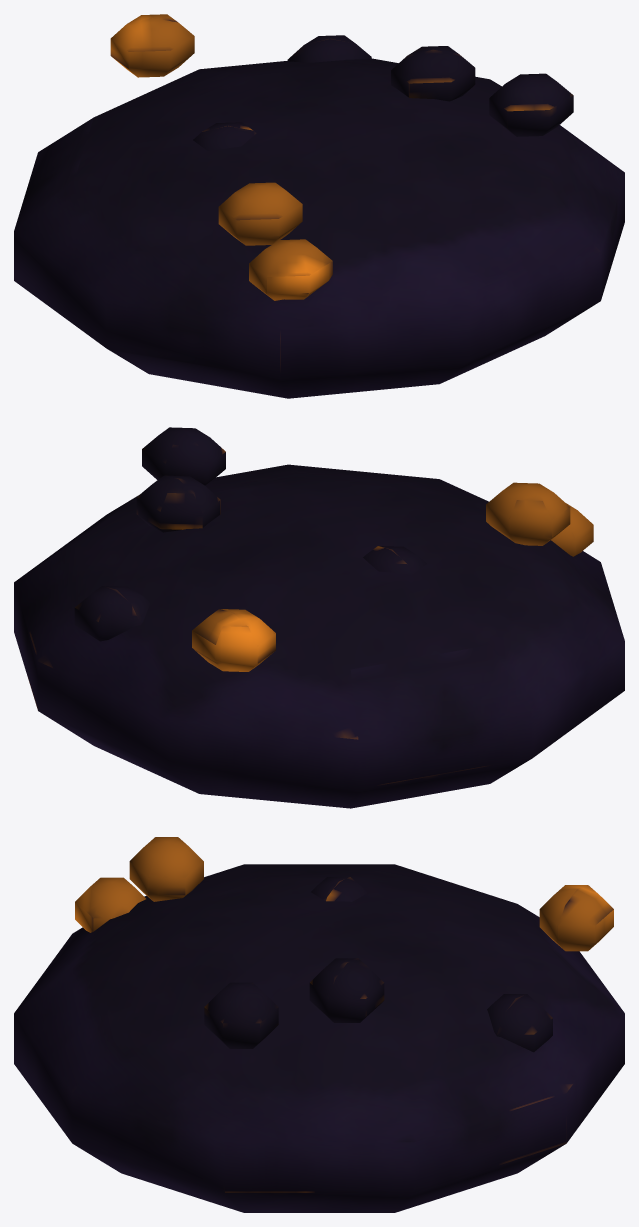
The model's file is cinder_pile.obj.
3 views of the same model, one above another, from view 1: azimuth 30°, elevation 25°; view 2: azimuth 150°, elevation 25°; view 3: azimuth 270°, elevation 25° (orthographic).
Visible parts, largest first — view 1: part0, fire; view 2: part0, fire; view 3: part0, fire.
Part boxes in pixels (<box>): part0: <box>14,35,624,398</box>; fire: <box>110,14,332,300</box>; part0: <box>14,427,624,808</box>; fire: <box>192,482,593,671</box>; part0: <box>14,864,624,1212</box>; fire: <box>75,837,613,951</box>.
Size of the model in its own units: 0.7789 by 0.3555 by 0.7799.
